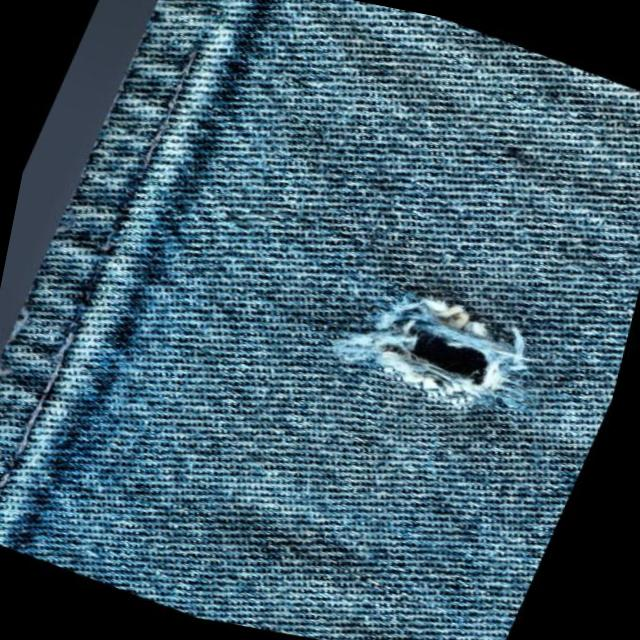hole: (320, 260, 540, 437)
seam: (0, 0, 278, 584)
